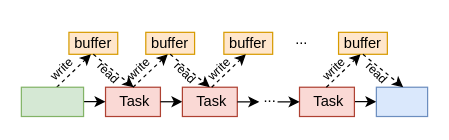
Image size: 449x140. Some labels were removed from this diagram. Each missing label, with the centre of its shape:
"Action" goes at pixel 401 101.
"External Events" goes at pixel 52 101.
